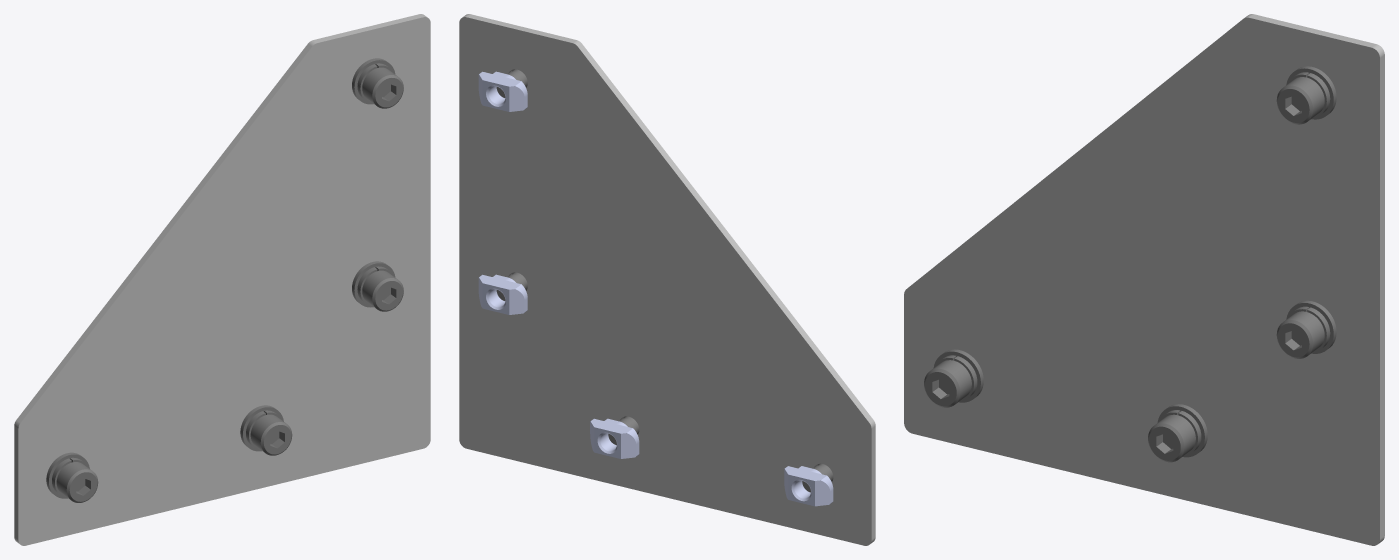
File: TPJC-TPJC-5010-5050A-ZP.glb
3 views of the same model, side by side, from view 1: azimuth 30°, elevation 25°; view 2: azimuth 150°, elevation 25°; view 3: azimuth 330°, elevation 25° (orthographic). The views are drawn at different scales.
Parts seen in each view (by area): view 1: NAUO1, NAUO6, NAUO4, NAUO8, NAUO2; view 2: NAUO1, NAUO9, NAUO5, NAUO3, NAUO7; view 3: NAUO1, NAUO8, NAUO4, NAUO2, NAUO6.
Part boxes in pixels (<box>): NAUO1: <box>14,14,430,545</box>; NAUO6: <box>240,405,292,455</box>; NAUO4: <box>352,261,403,311</box>; NAUO8: <box>46,452,98,502</box>; NAUO2: <box>352,58,403,108</box>; NAUO1: <box>459,14,875,545</box>; NAUO9: <box>784,466,833,506</box>; NAUO5: <box>478,274,527,314</box>; NAUO3: <box>478,71,527,111</box>; NAUO7: <box>590,418,639,458</box>; NAUO1: <box>904,14,1384,545</box>; NAUO8: <box>924,349,983,407</box>; NAUO4: <box>1276,300,1336,358</box>; NAUO2: <box>1276,66,1336,124</box>; NAUO6: <box>1148,404,1207,462</box>.
Bounding box in the file's own units: 0.17 × 0.17 × 0.0302.
